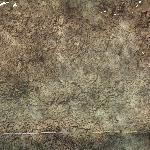dead: (1, 2, 147, 147)
